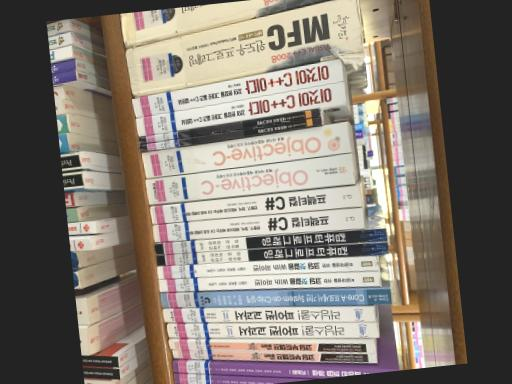book-spine: (125, 0, 363, 96), (131, 59, 341, 117), (141, 122, 350, 178), (135, 81, 344, 136), (145, 154, 353, 204), (119, 0, 318, 46), (148, 185, 361, 224), (152, 208, 362, 242), (138, 117, 320, 152), (138, 109, 319, 144), (153, 228, 386, 254), (154, 242, 388, 265), (156, 255, 378, 278), (157, 272, 379, 292), (160, 289, 390, 306), (171, 361, 394, 378), (161, 305, 374, 321), (165, 322, 378, 338), (167, 339, 374, 353), (171, 351, 376, 362), (173, 373, 313, 384)
